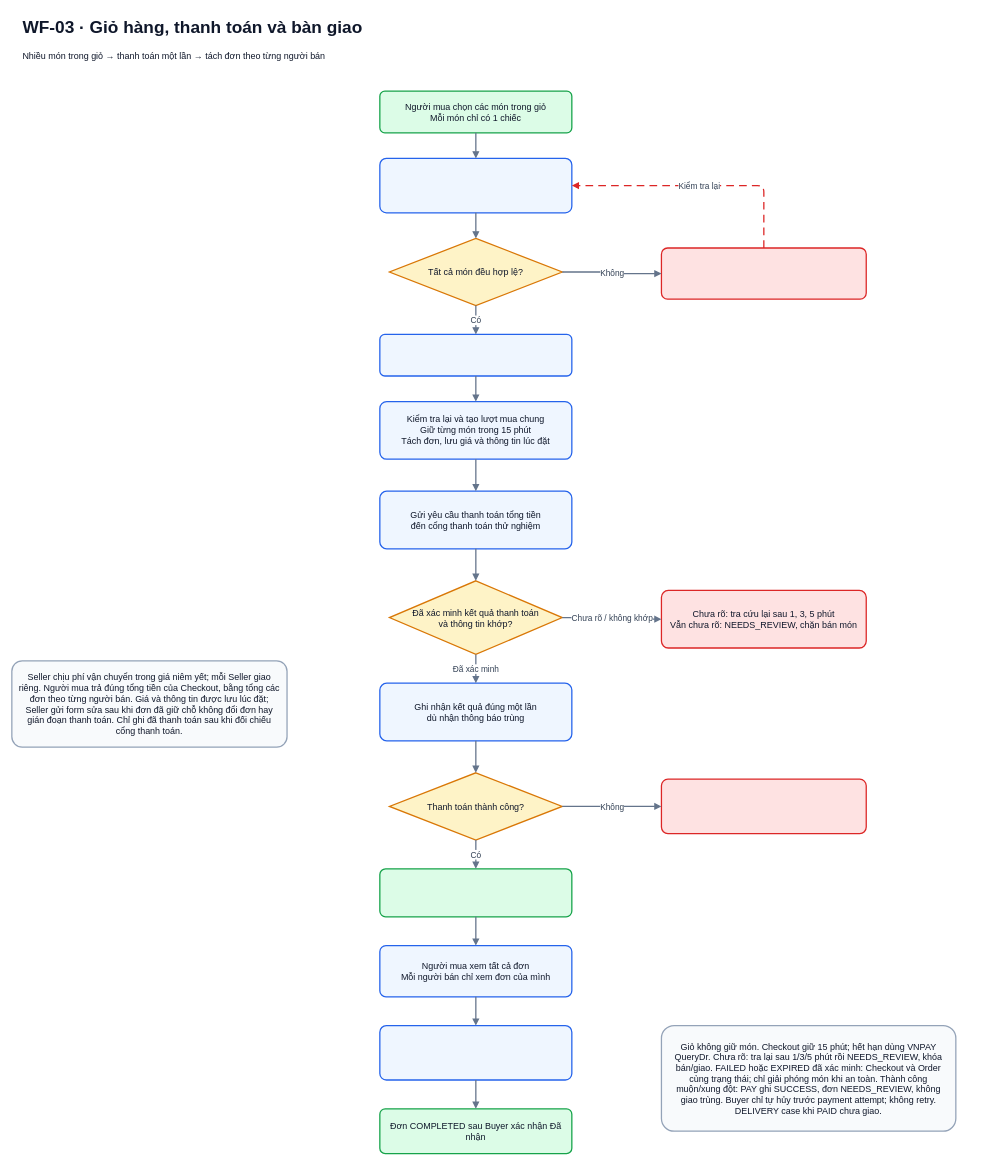
Some shapes in this 992 by 1165 pixel diagram are drawn without their labels. Here are the shapes that lost their labels. From the top down, the centre of each, then its label:
At point (475, 185): "Hệ thống kiểm tra đăng nhập, giá, món còn bán, không mua món do chính mình đăng".
At point (763, 273): "Giá đổi, món hết bán hoặc đang chờ duyệt bản sửa; xem lại giỏ".
At point (475, 354): "Buyer nhập thông tin nhận hàng, xác nhận món và tổng tiền".
At point (763, 806): "Hết 15 phút: tra cứu cổng Chỉ mở bán khi xác minh chưa trả".
At point (475, 892): "Đánh dấu các đơn là đã thanh toán; món chuyển Đã bán".
At point (475, 1052): "Seller tự đặt vận chuyển, nhập hãng/mã vận đơn Buyer bấm Đã nhận trên đơn".
